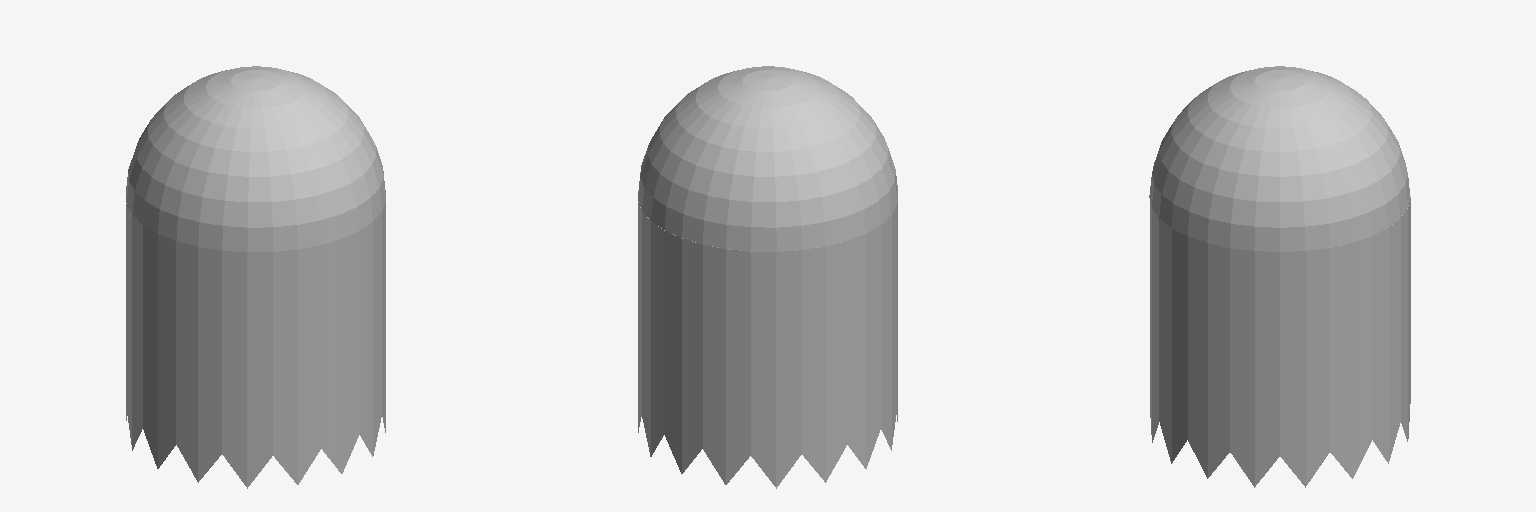
File: spookje.obj
3 views of the same model, side by side, from view 1: azimuth 30°, elevation 25°; view 2: azimuth 150°, elevation 25°; view 3: azimuth 270°, elevation 25° (orthographic).
Bounding box in the file's own units: 2 × 3 × 2.